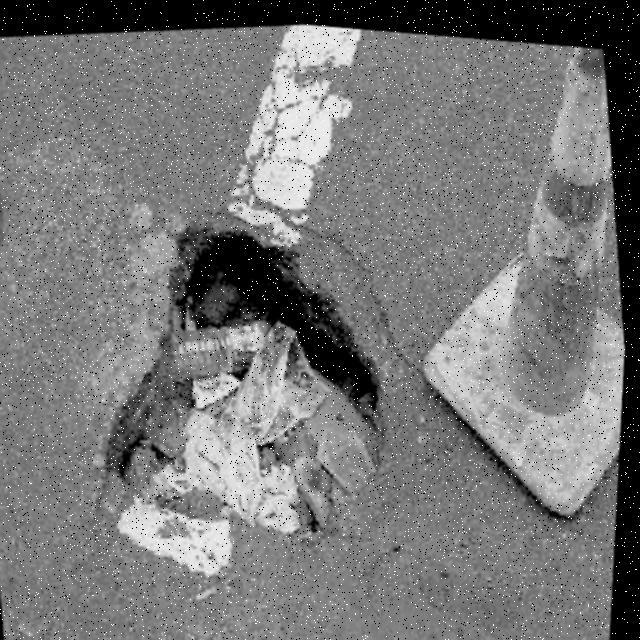pothole: (75, 173, 418, 572)
